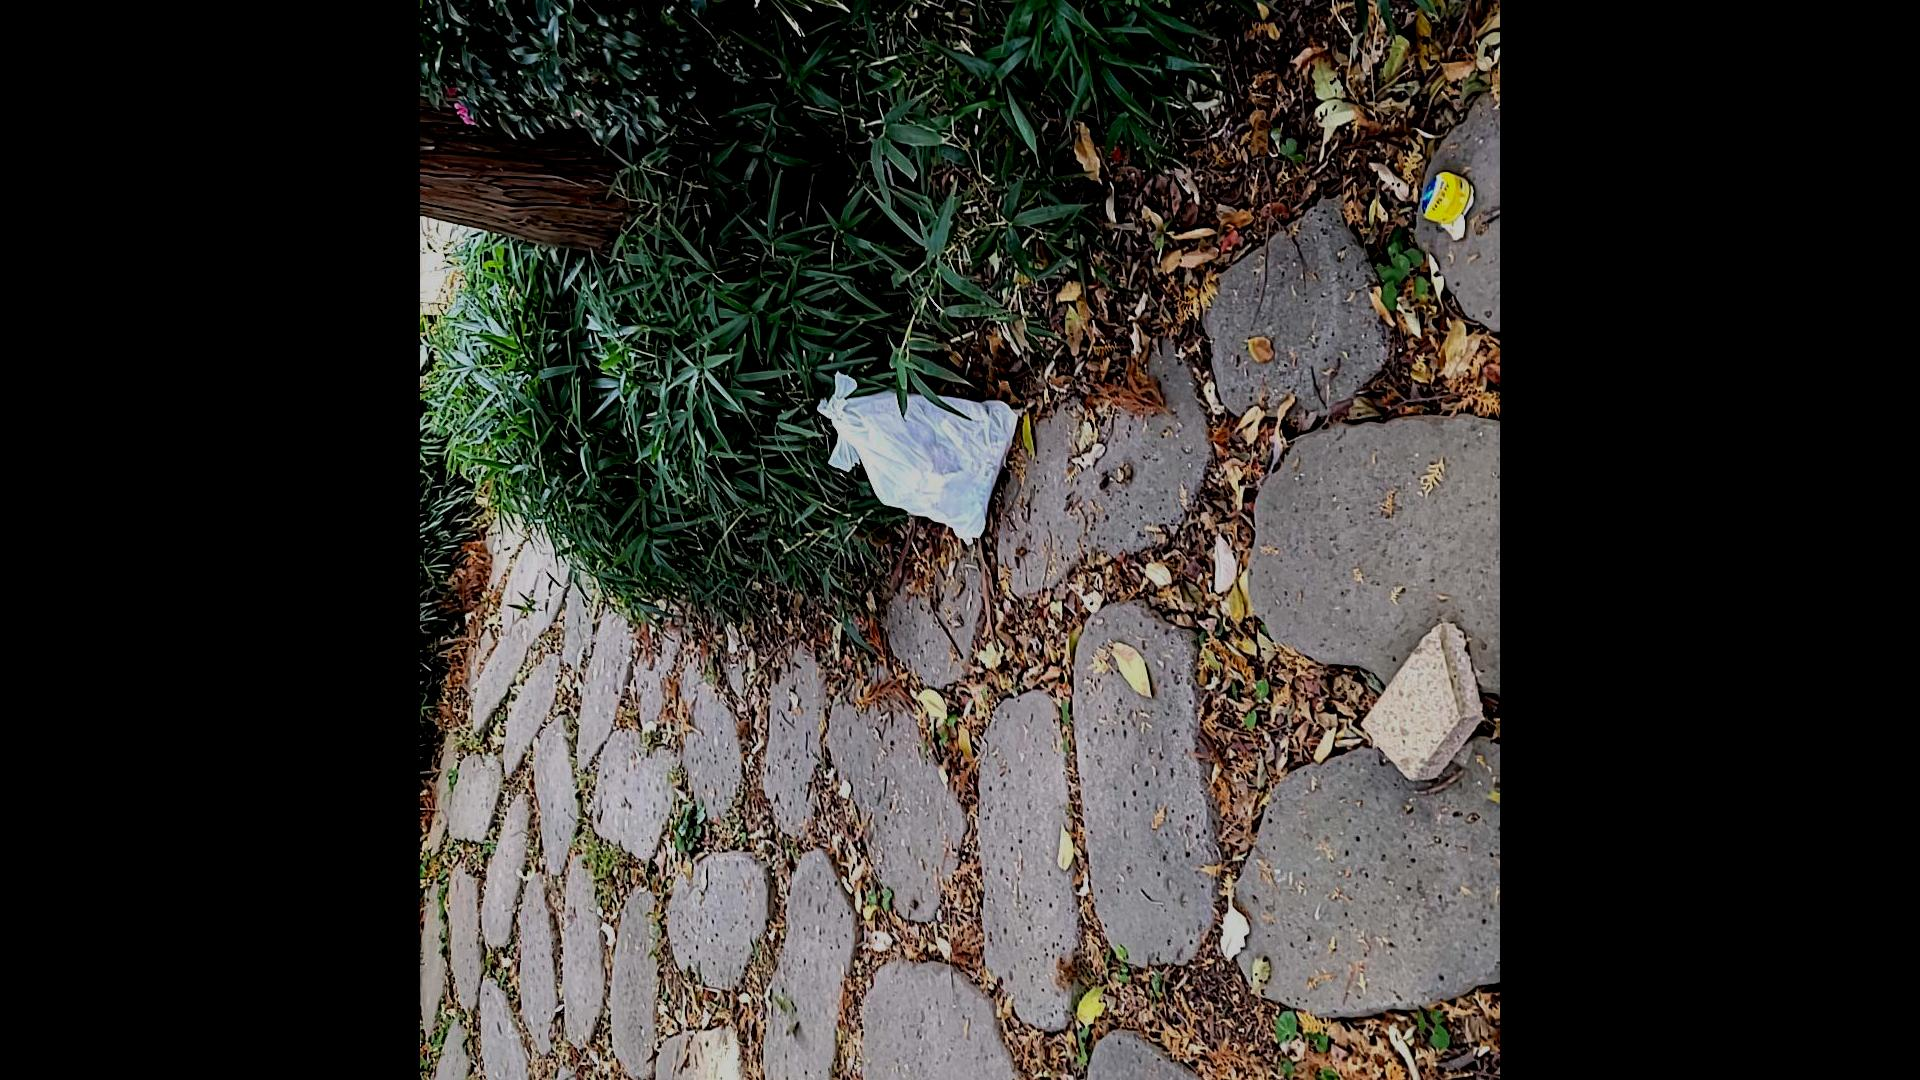white_bag: (804, 368, 1038, 558)
